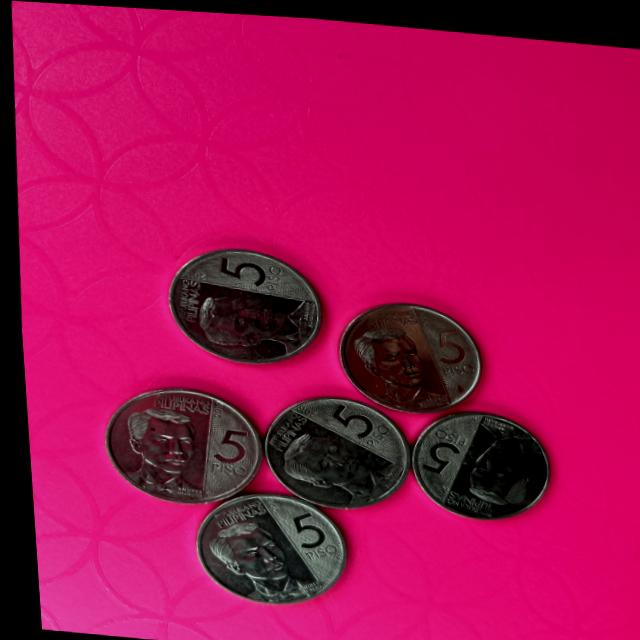5_New_Front: (266, 503, 334, 562), (208, 247, 290, 291), (320, 394, 383, 443), (418, 321, 474, 373), (415, 417, 463, 472), (197, 421, 247, 472)
